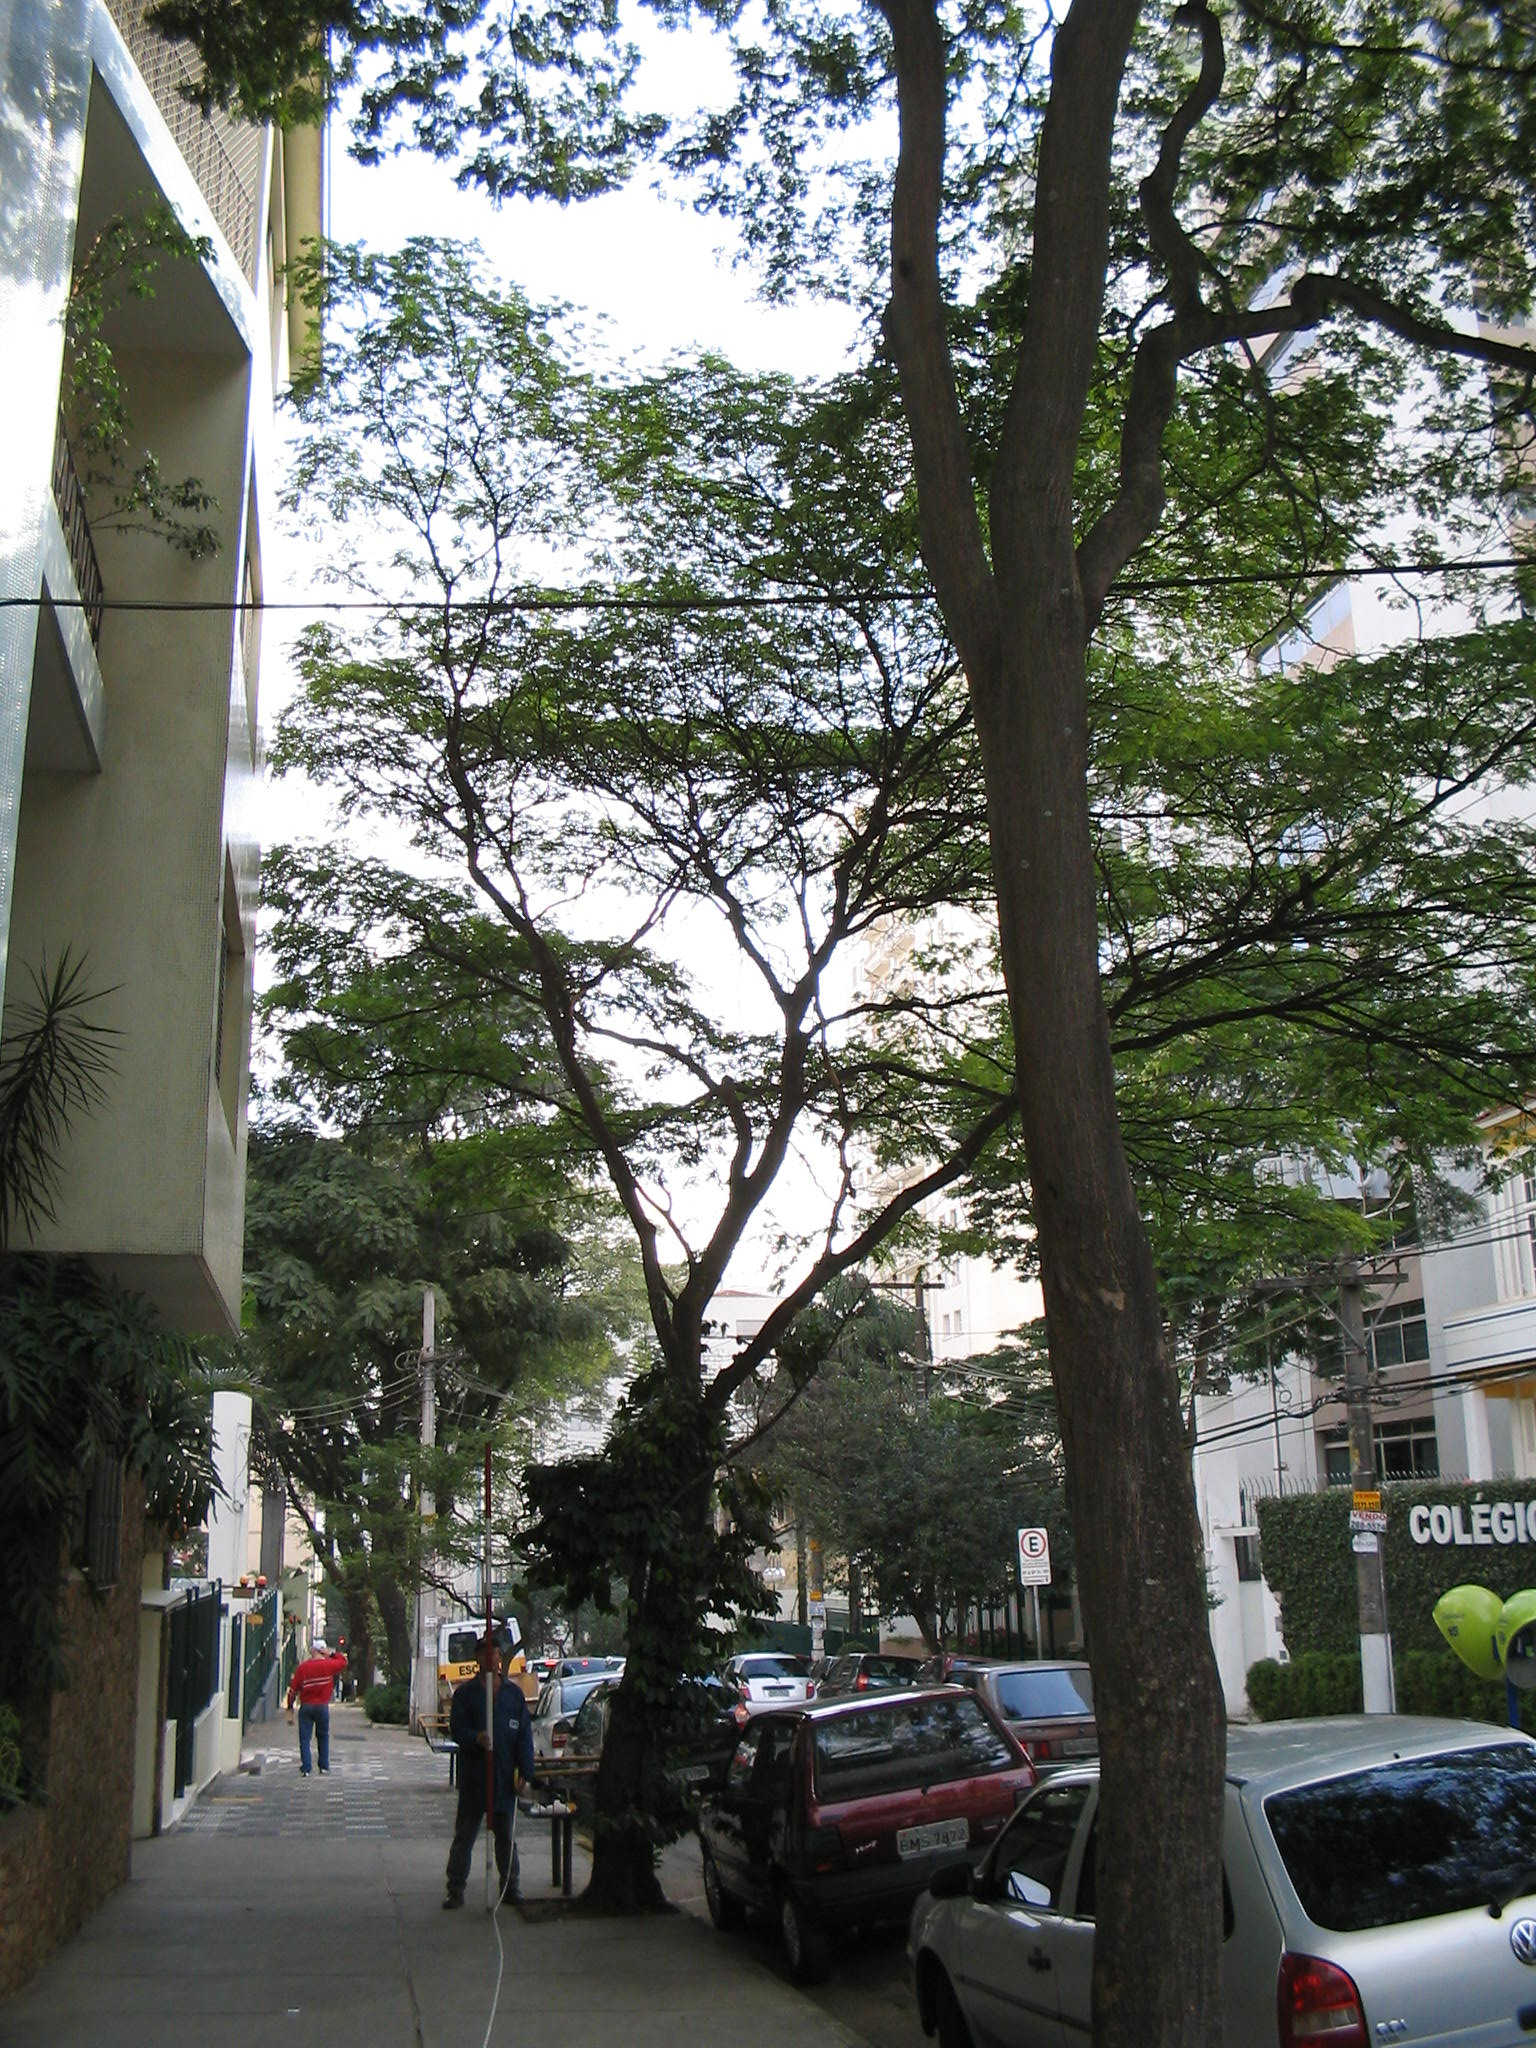stem: (958, 700, 1292, 2033), (552, 1411, 766, 1903)
stick: (461, 1445, 511, 1911)
tree: (278, 242, 1533, 1900), (244, 882, 629, 1721)
